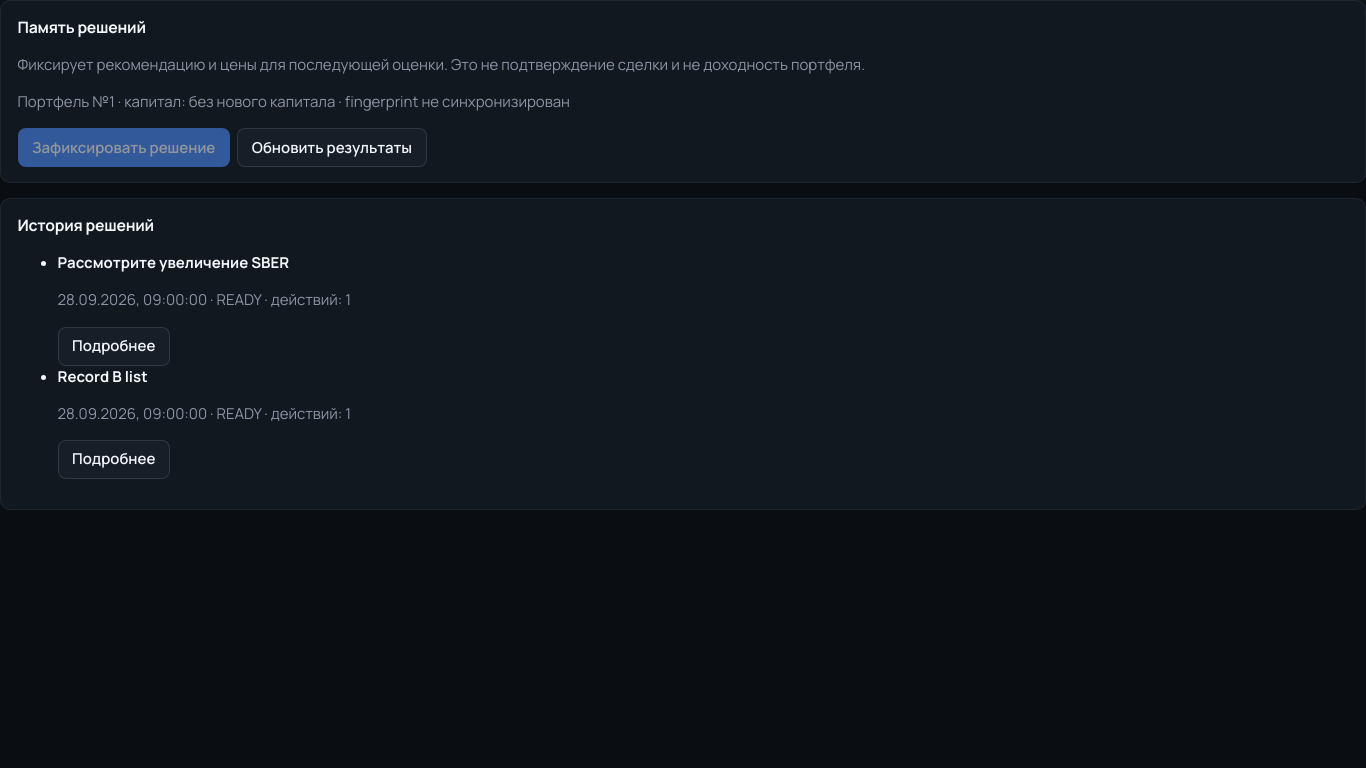
Test: DecisionMemoryPanel › does not replace record B with delayed record A in the same portfolio
Click the button with test id "memory-open-7": click(114, 346) [58,326,170,366]
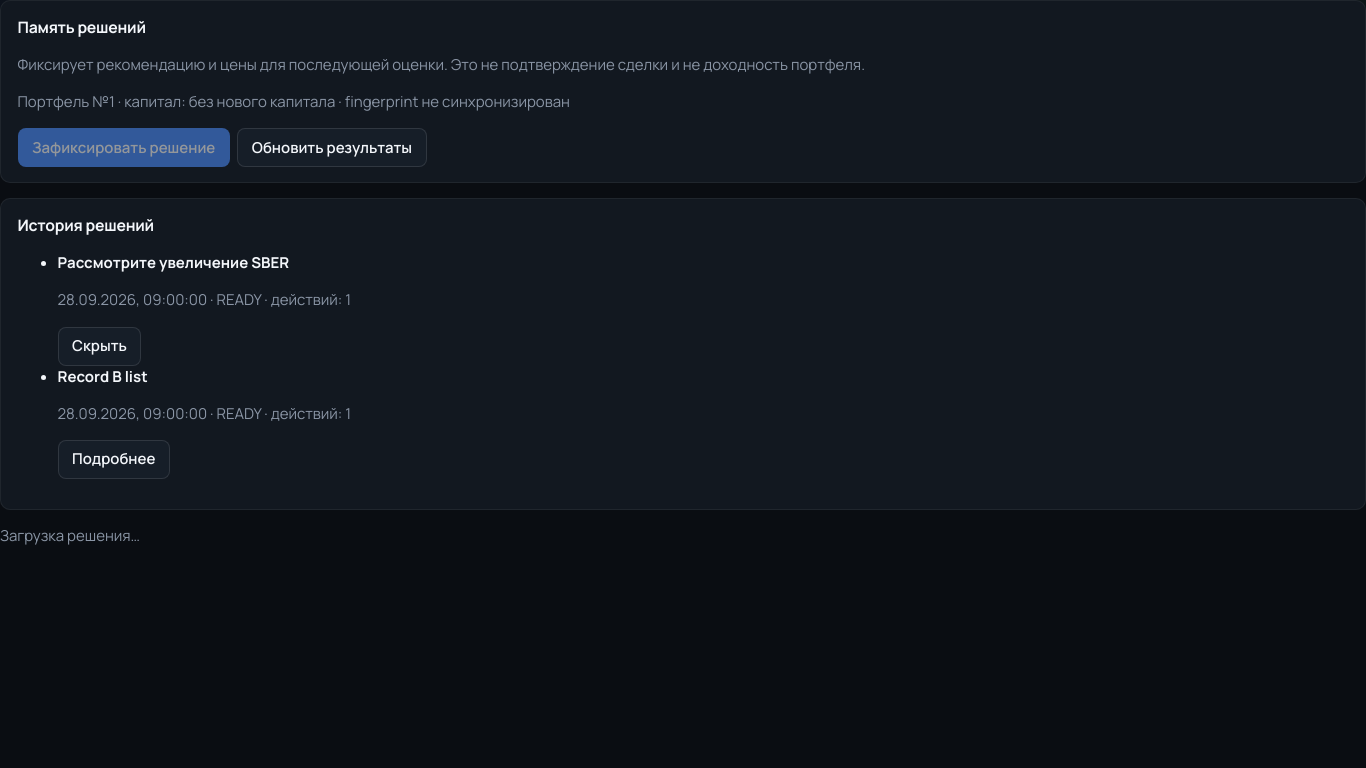
Click the button with test id "memory-open-8": click(114, 459) [58,440,170,479]
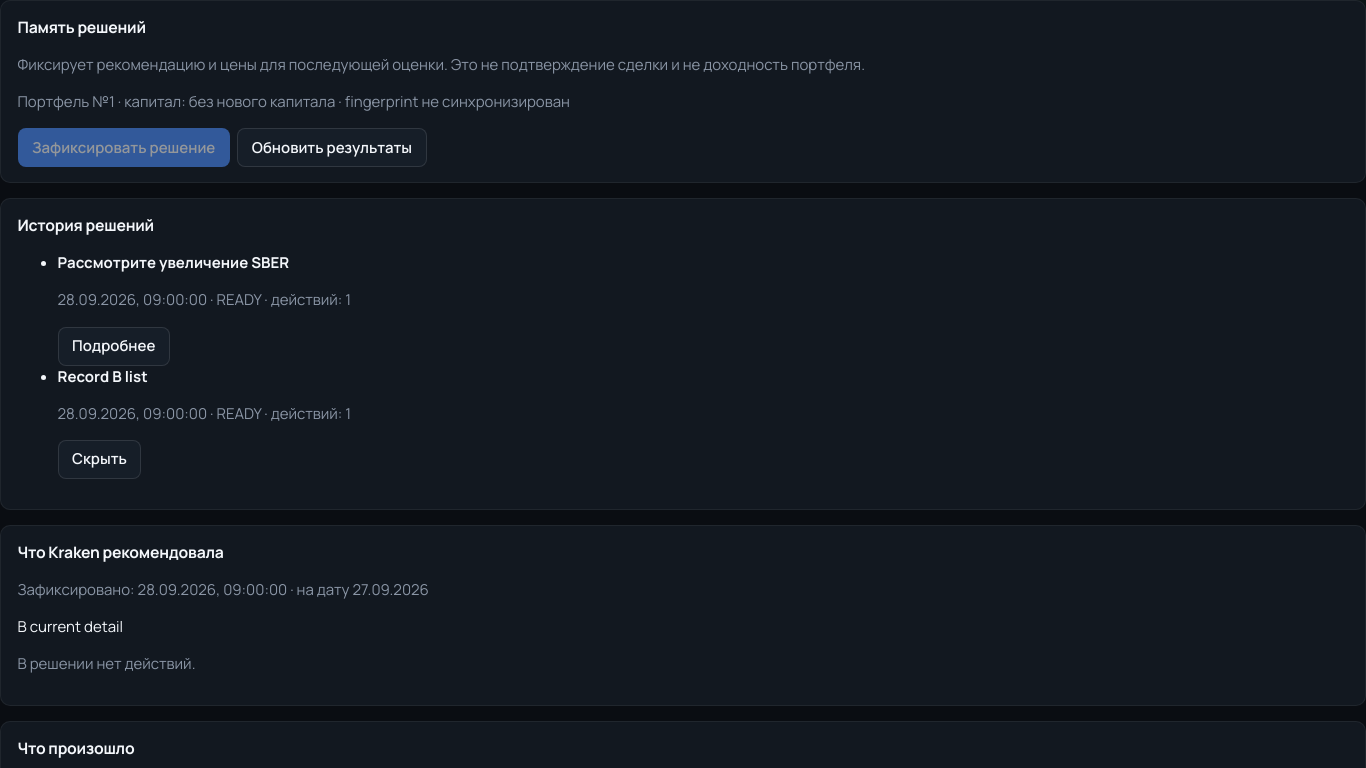
Now the text "B current detail" is shown, box [18,616,123,637]
